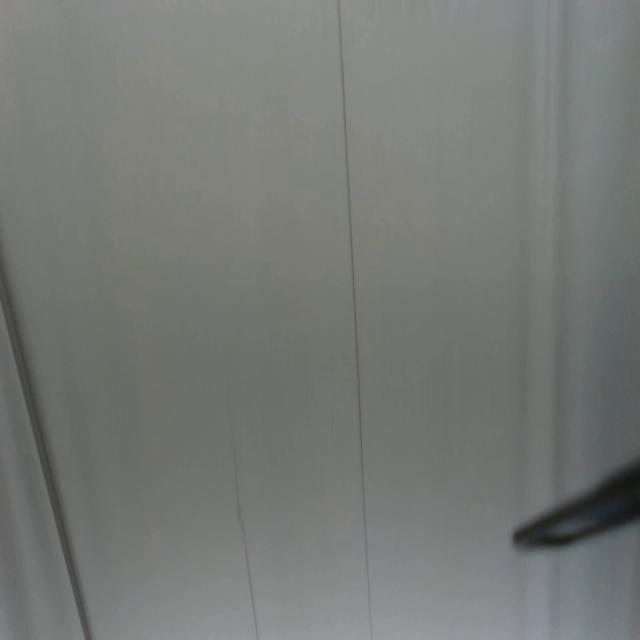crease: (0, 277, 93, 637), (335, 0, 377, 639), (231, 460, 261, 640)
